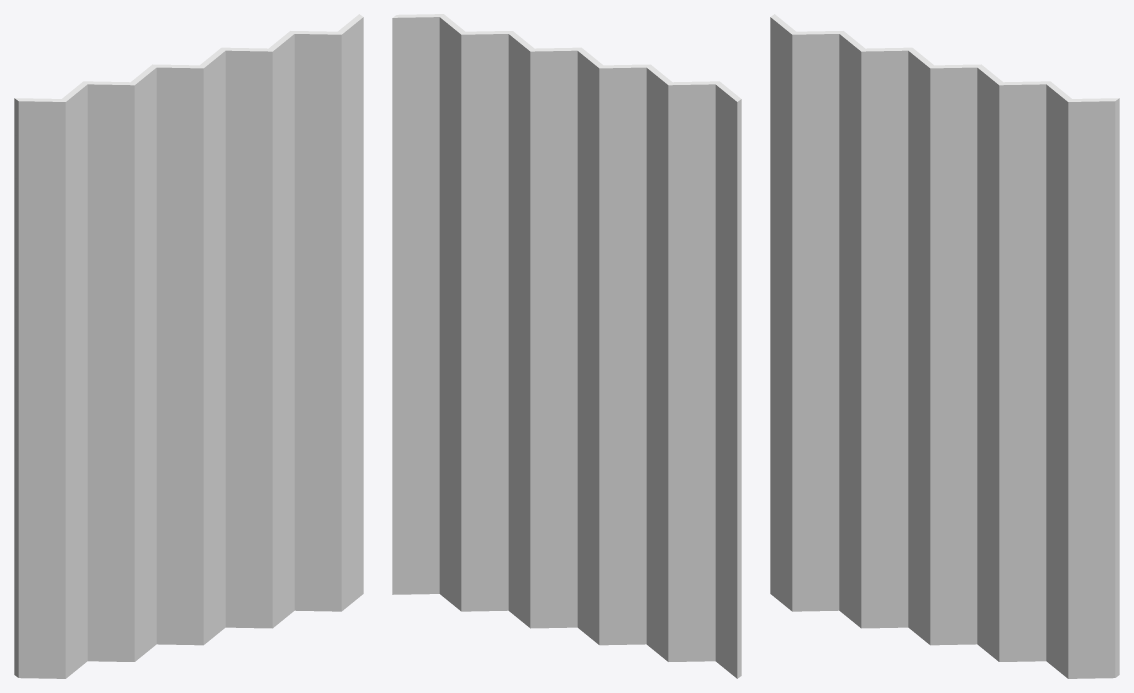
File: Prop_Metal_Sheet_01.glb
3 renders of one model, left to right at view 1: azimuth 30°, elevation 25°; view 2: azimuth 150°, elevation 25°; view 3: azimuth 330°, elevation 25°, orthographic.
Parts seen in each view (by area): view 1: Prop_Metal_Sheet_01; view 2: Prop_Metal_Sheet_01; view 3: Prop_Metal_Sheet_01.
Boxes of the visible parts, x1,y1,x2,y2 form: Prop_Metal_Sheet_01: [14, 14, 363, 678]; Prop_Metal_Sheet_01: [392, 14, 741, 678]; Prop_Metal_Sheet_01: [770, 14, 1119, 678].
Size of the model in its own units: 1.07 by 1.7 by 0.0902.
1 material, 1 textured.
